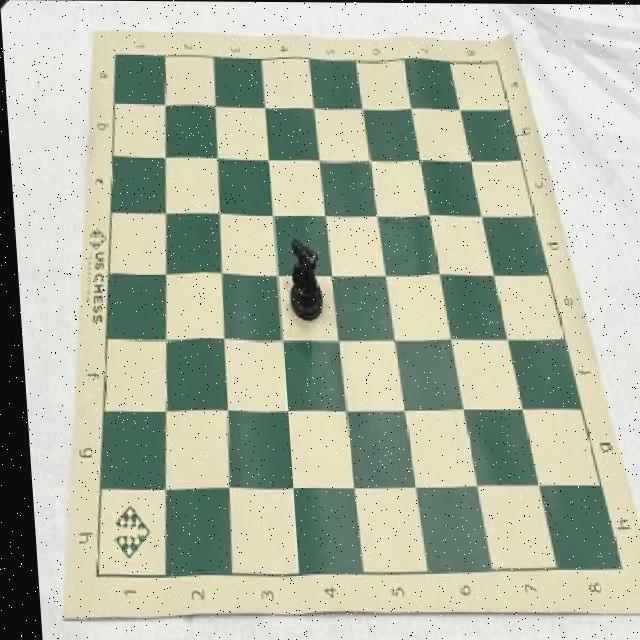black-king: (282, 239, 321, 322)
